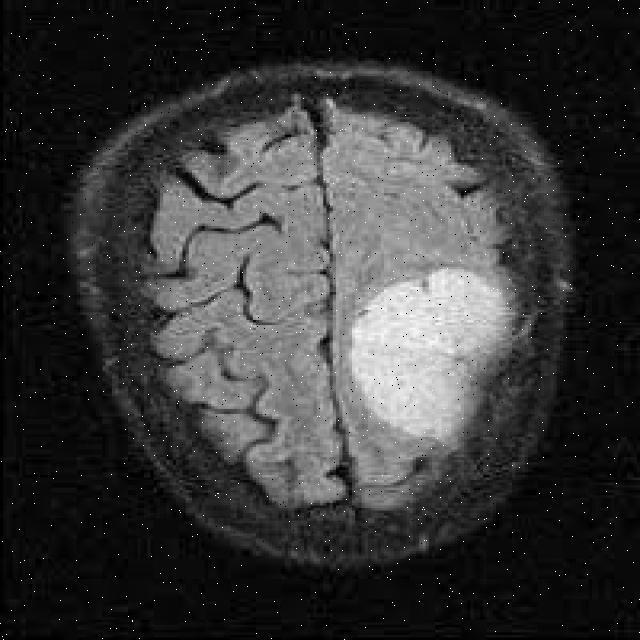Meningioma: (352, 269, 510, 439)
